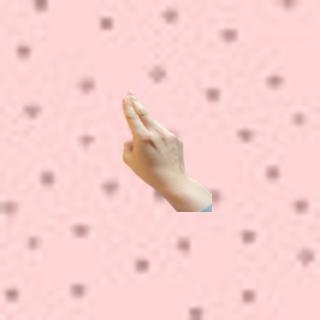DHAVE: (115, 87, 190, 190)
